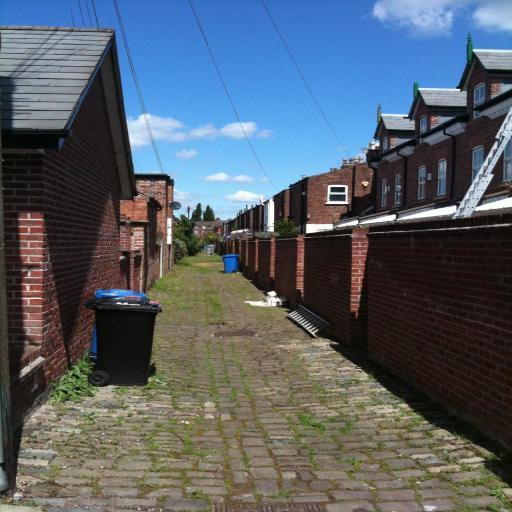trash-can: (93, 292, 160, 388), (221, 254, 239, 276)
